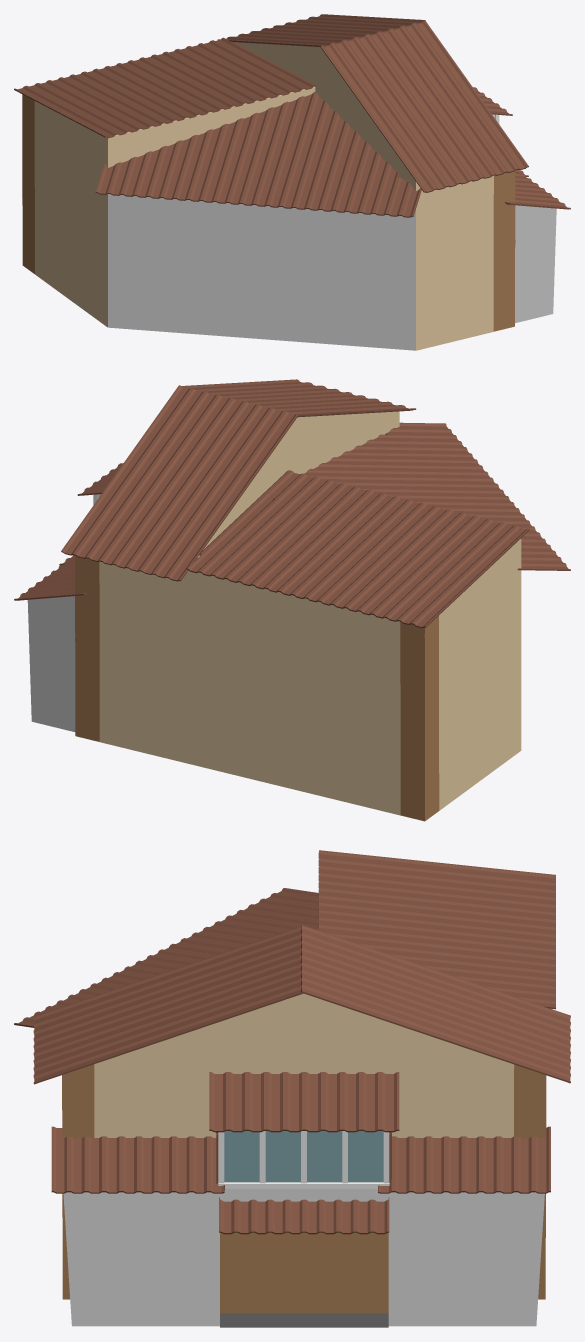
The model's file is Tavern (foundation).fbx.
3 views of the same model, one above another, from view 1: azimuth 30°, elevation 25°; view 2: azimuth 150°, elevation 25°; view 3: azimuth 270°, elevation 25° (orthographic). The views are drawn at different scales.
Parts seen in each view (by area): view 1: Tavern (foundation); view 2: Tavern (foundation); view 3: Tavern (foundation).
Boxes of the visible parts, x1,y1,x2,y2 form: Tavern (foundation): (14, 14, 570, 350); Tavern (foundation): (14, 379, 570, 821); Tavern (foundation): (14, 850, 570, 1327).
Size of the model in its own units: 3811 by 2128 by 3464.
